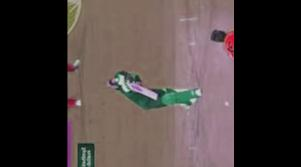batsman: (96, 60, 208, 120)
